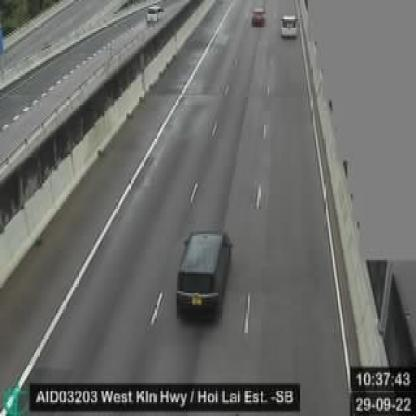Car: (172, 220, 242, 335), (278, 11, 298, 44), (144, 2, 169, 28), (250, 0, 266, 33)
